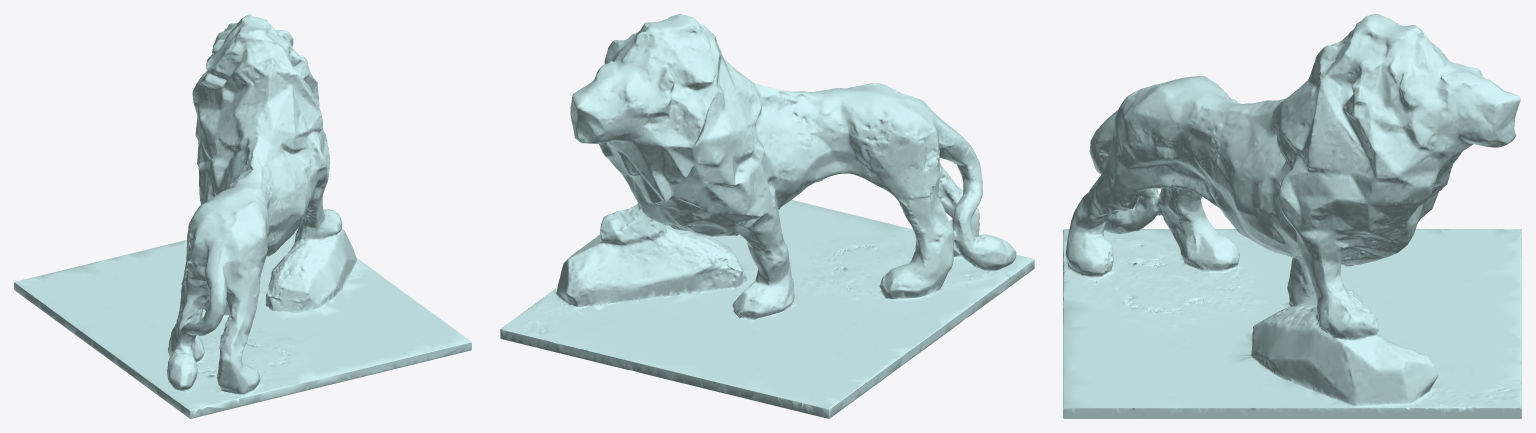
File: preview.glb
3 renders of one model, left to right at view 1: azimuth 30°, elevation 25°; view 2: azimuth 150°, elevation 25°; view 3: azimuth 270°, elevation 25°, orthographic. The views are drawn at different scales.
Parts seen in each view (by area): view 1: Object_2; view 2: Object_2; view 3: Object_2.
Part boxes in pixels (<box>): Object_2: <box>14,14,471,418</box>; Object_2: <box>500,14,1034,418</box>; Object_2: <box>1063,14,1521,418</box>.
Size of the model in its own units: 137 by 120 by 149.
